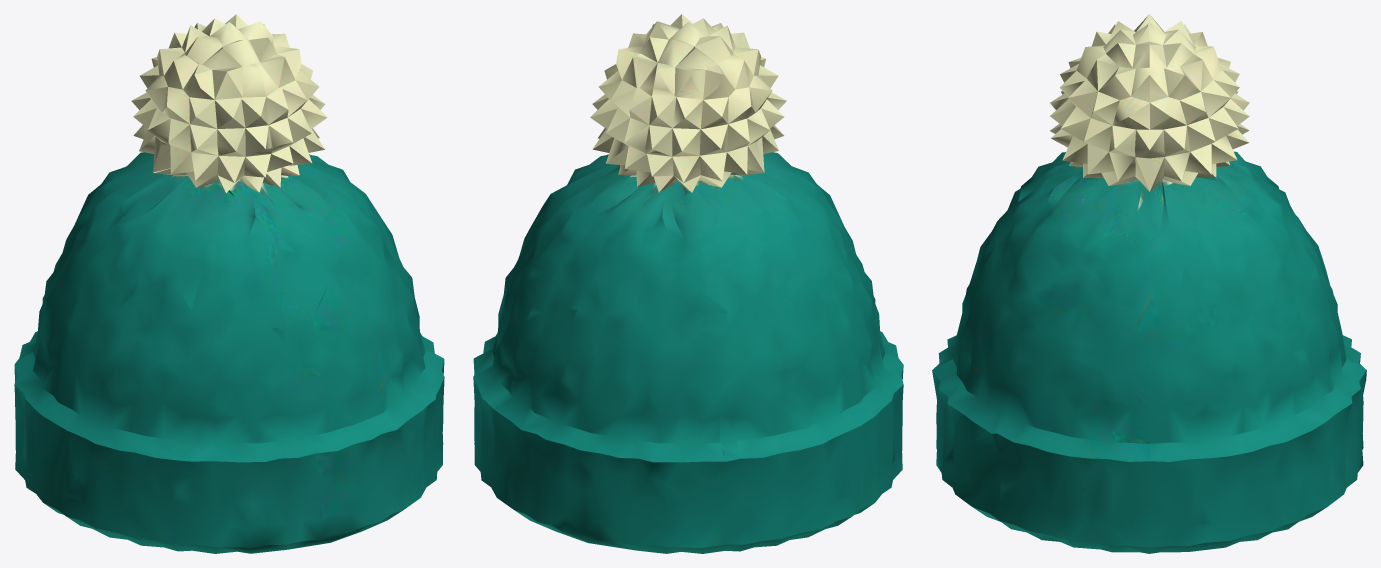
The model's file is hat_ws_beanie_idle.glb.
3 views of the same model, side by side, from view 1: azimuth 30°, elevation 25°; view 2: azimuth 150°, elevation 25°; view 3: azimuth 270°, elevation 25° (orthographic).
Parts seen in each view (by area): view 1: tripo_node_929727ef-4645-4650-8560-68cb41d83db9; view 2: tripo_node_929727ef-4645-4650-8560-68cb41d83db9; view 3: tripo_node_929727ef-4645-4650-8560-68cb41d83db9.
Boxes of the visible parts, left/top/right/bottom form: tripo_node_929727ef-4645-4650-8560-68cb41d83db9: left=14, top=14, right=444, bottom=553; tripo_node_929727ef-4645-4650-8560-68cb41d83db9: left=473, top=14, right=903, bottom=553; tripo_node_929727ef-4645-4650-8560-68cb41d83db9: left=932, top=14, right=1366, bottom=553.
Size of the model in its own units: 0.2403 by 0.276 by 0.2426.
1 material, 1 textured.
